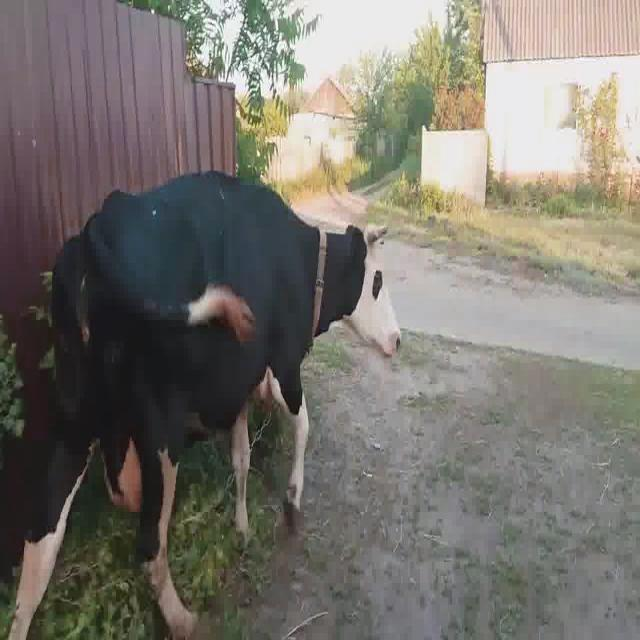cow: (9, 172, 400, 640)
